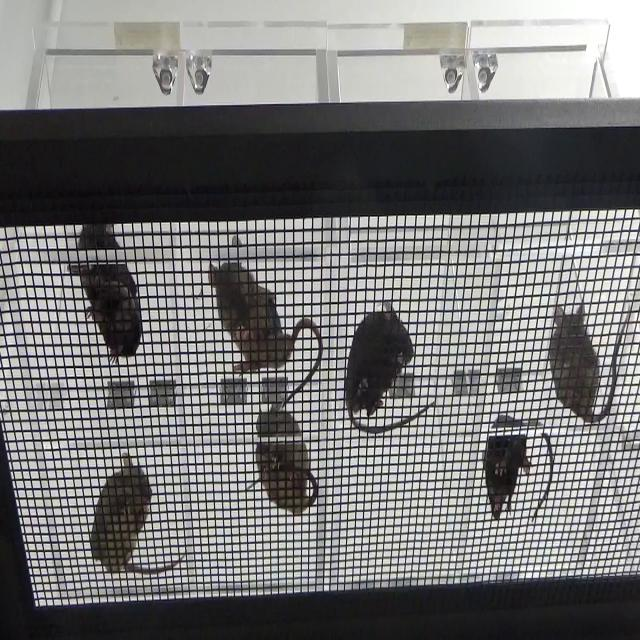lick tail: (65, 226, 146, 370)
